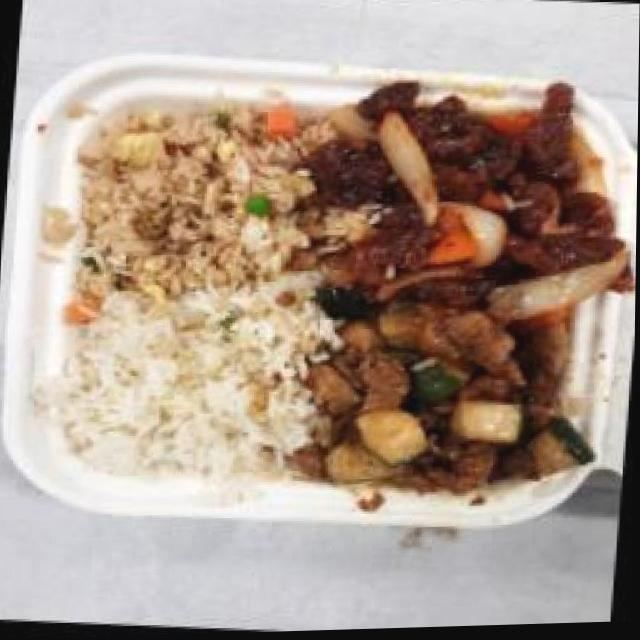Beijing Beef: (301, 70, 637, 313)
Fried Rice: (61, 90, 314, 313)
Kung Pao Chicken: (297, 286, 595, 516)
White Steamed Rice: (44, 301, 314, 492)
